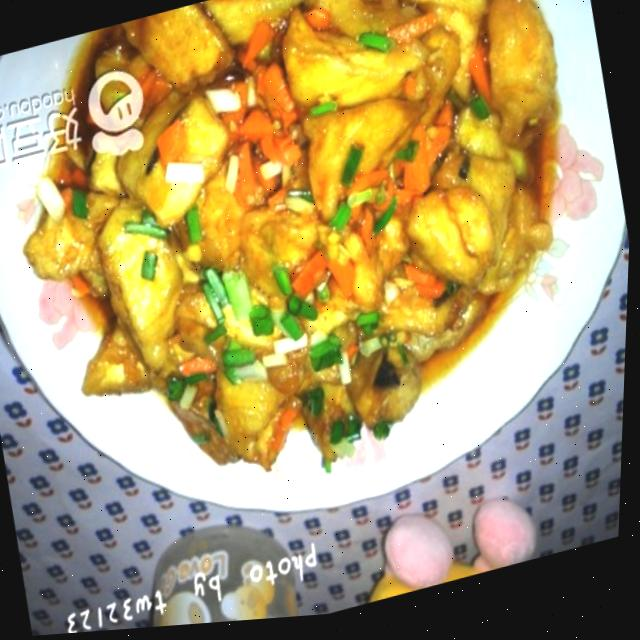鸡蛋料理: (6, 0, 640, 581)
